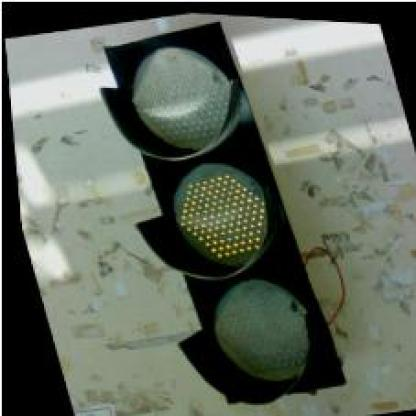yellow: (83, 7, 342, 414)
